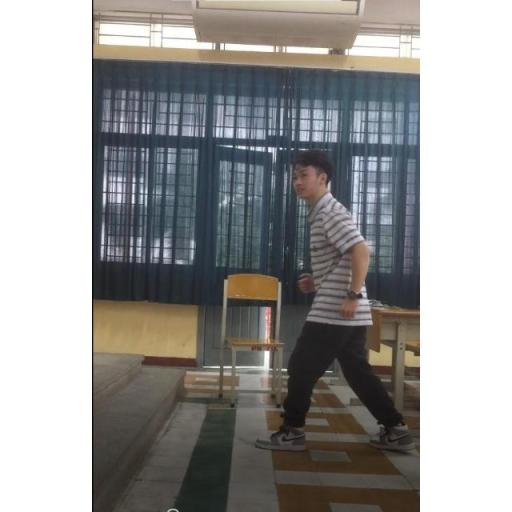Running: (253, 146, 417, 456)
